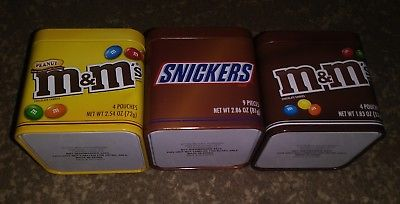snickers: (157, 62, 251, 81)
